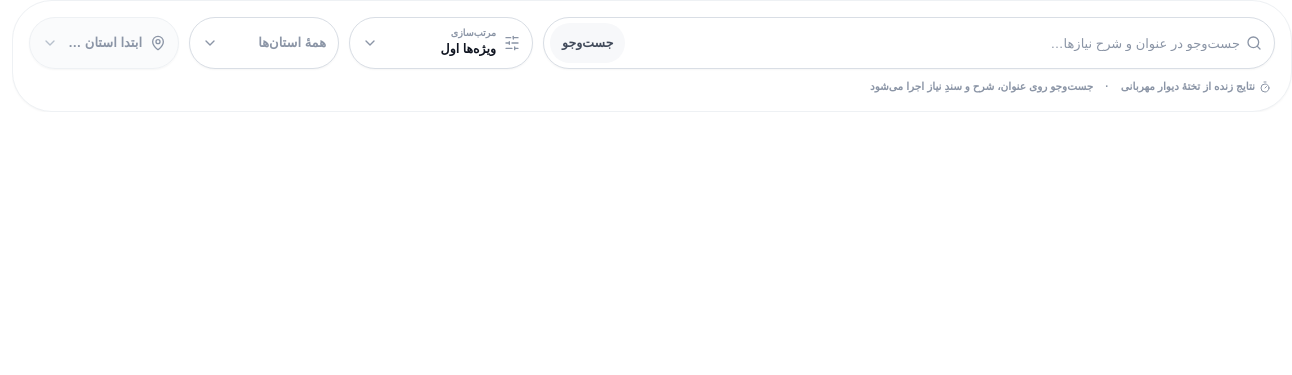
Test: KindnessToolbar › Escape پنل را می‌بندد
Click the button with aria-label "مرتب‌سازی آگهی‌ها". click: (441, 43)
box: top-left (349, 17), bottom-right (533, 69)
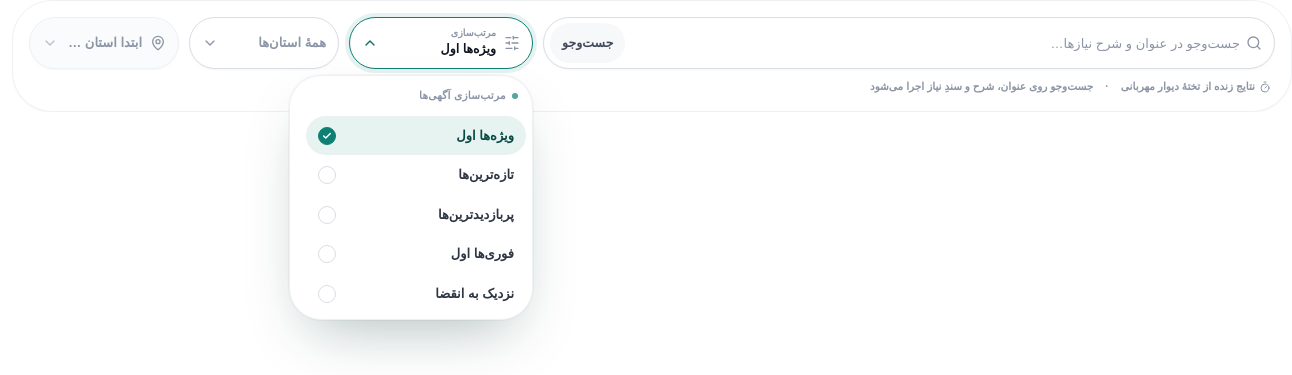
Expected: the list is shown, top-left (289, 75), bottom-right (533, 320)
Press Escape
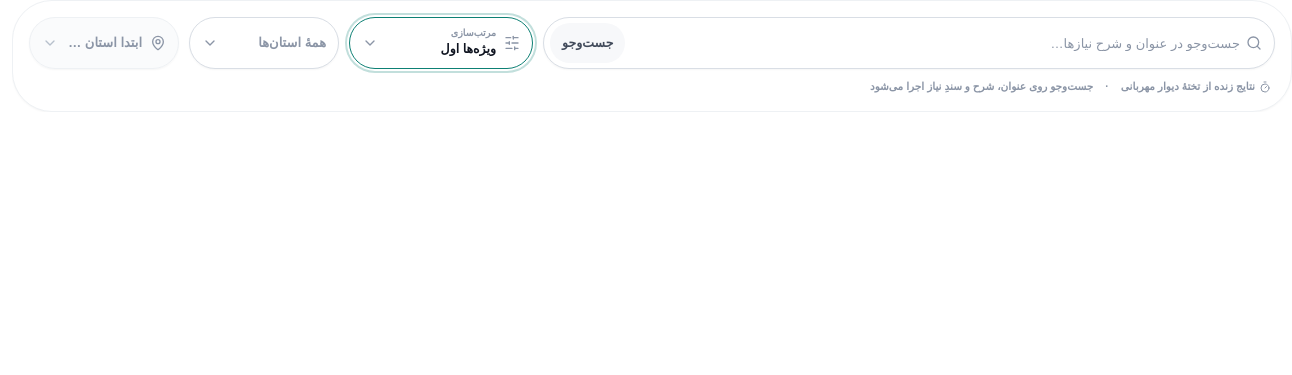
Expected: the list is gone
